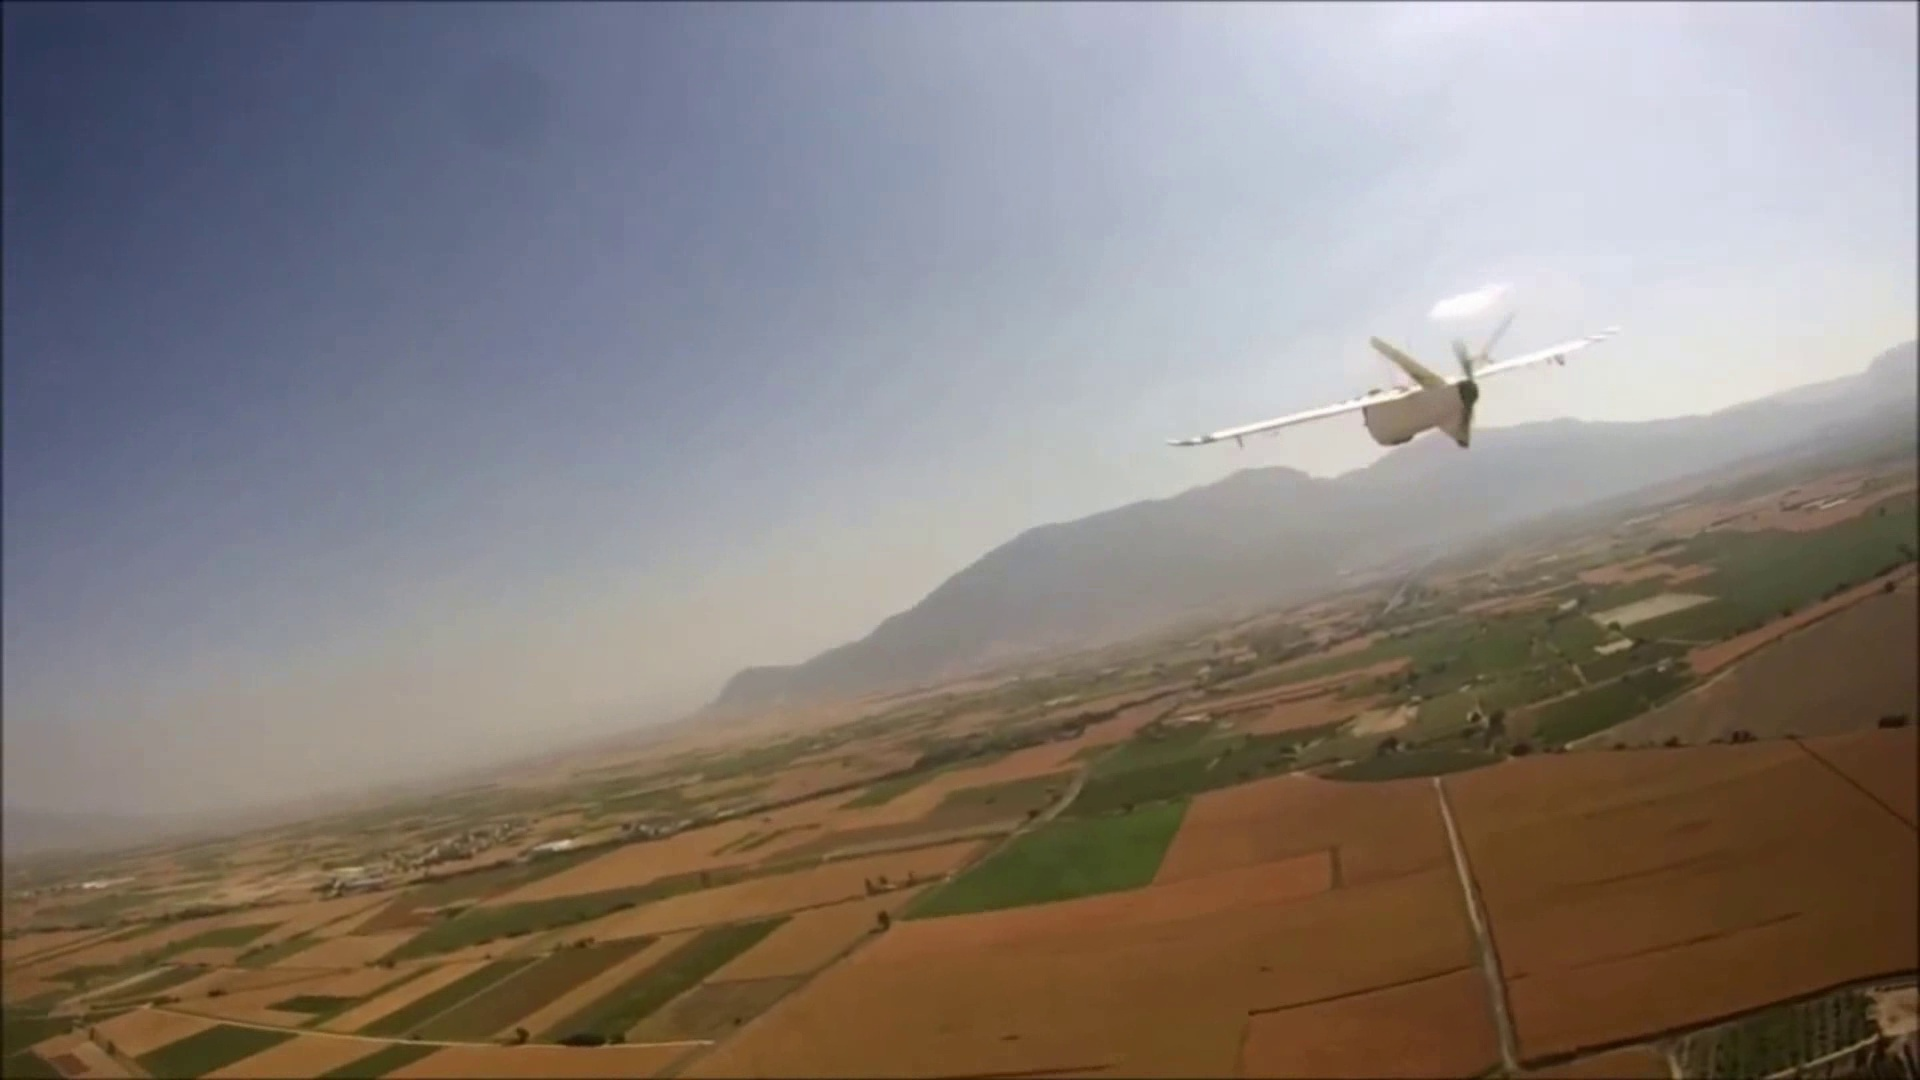airplane: (1167, 309, 1619, 465)
